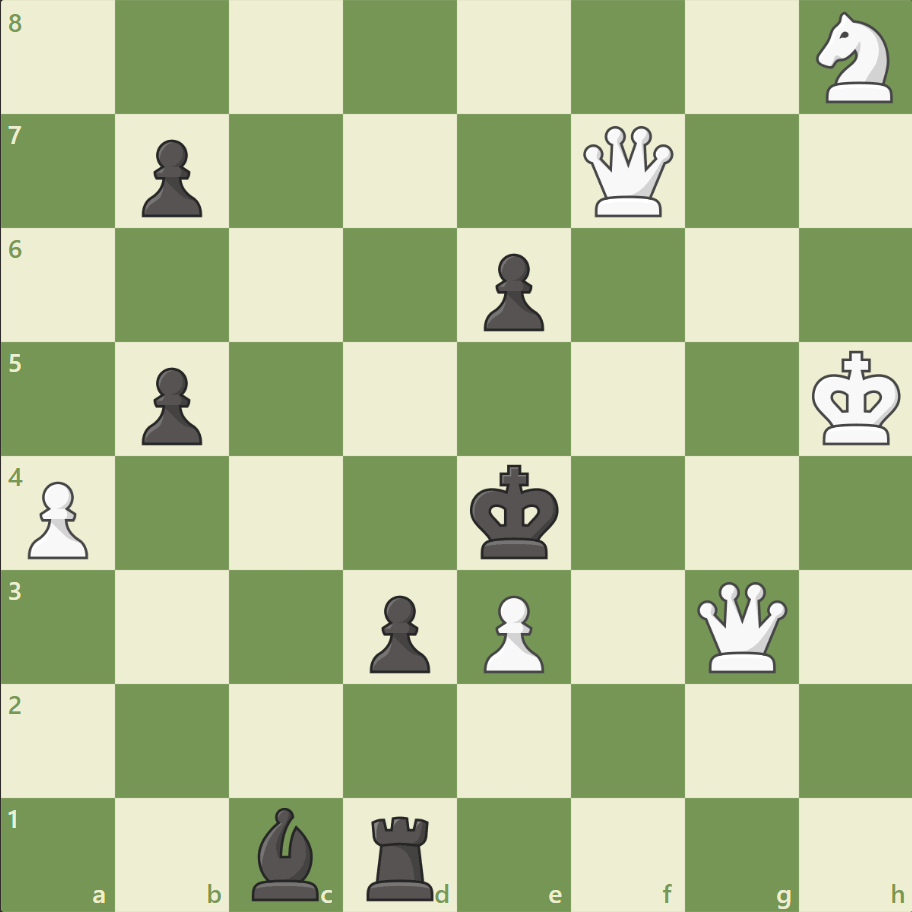K: (806, 344, 906, 452)
N: (806, 7, 903, 110)
P: (20, 473, 95, 564), (474, 586, 549, 677)
Q: (578, 122, 677, 222), (691, 576, 790, 676)
b: (244, 801, 328, 904)
k: (465, 458, 565, 566)
p: (133, 132, 208, 223), (474, 246, 549, 337), (133, 359, 208, 450), (361, 586, 435, 677)
r: (360, 806, 442, 904)
